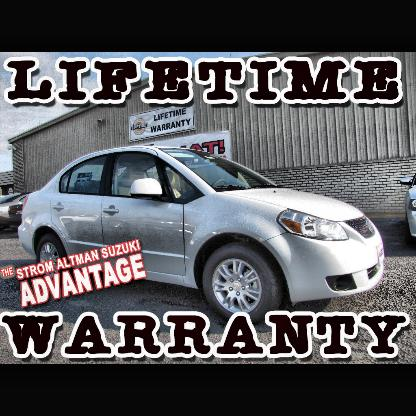Suzuki SX4 Sedan 2012: (18, 144, 387, 319)
